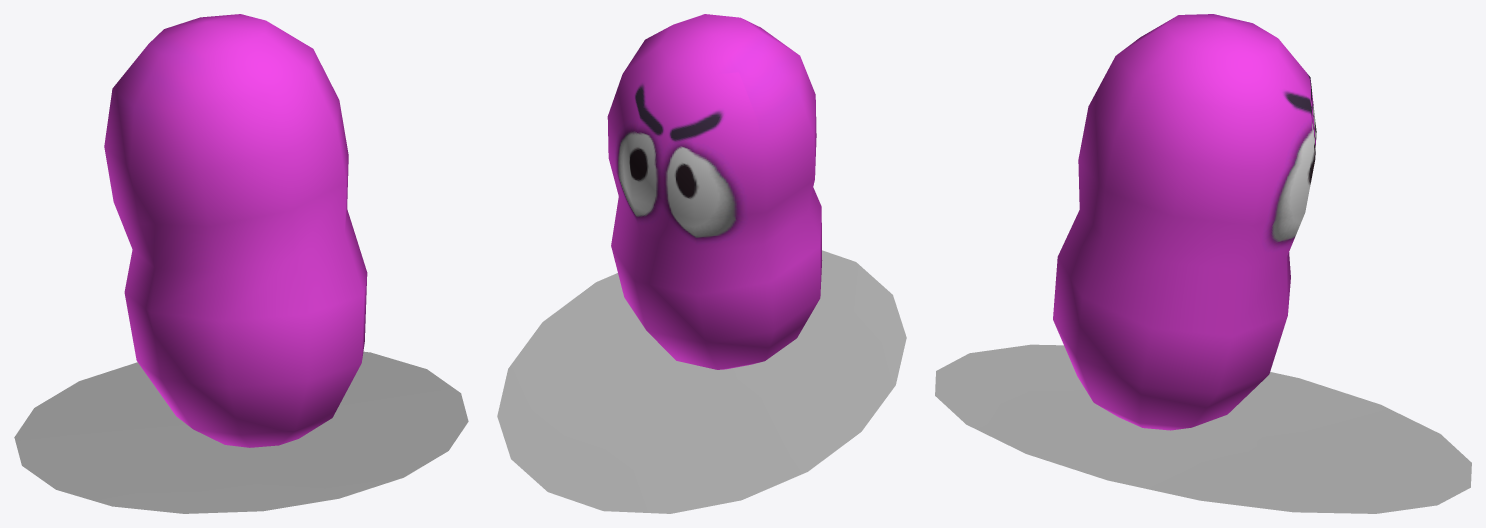
File: copy.ico.obj
3 renders of one model, left to right at view 1: azimuth 30°, elevation 25°; view 2: azimuth 150°, elevation 25°; view 3: azimuth 270°, elevation 25°, orthographic. The views are drawn at different scales.
Bounding box in the file's own units: 3.86 × 4.52 × 5.
Materials: 1 (1 with a texture image).
